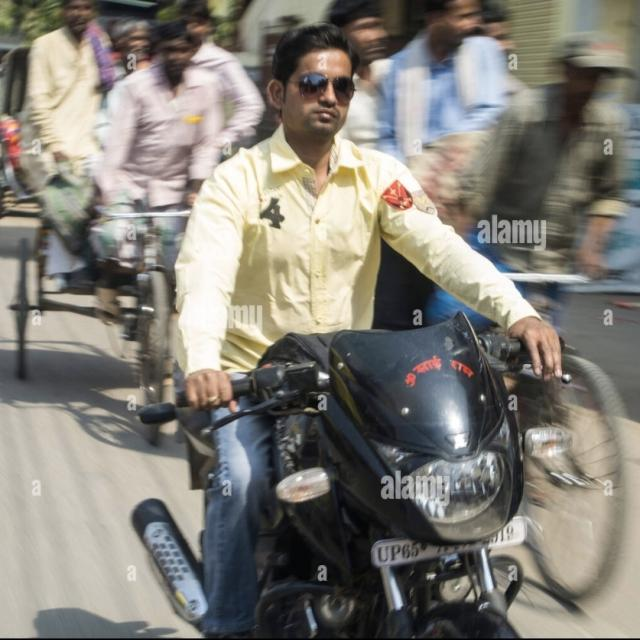WithoutHelmet: (175, 22, 564, 639)
